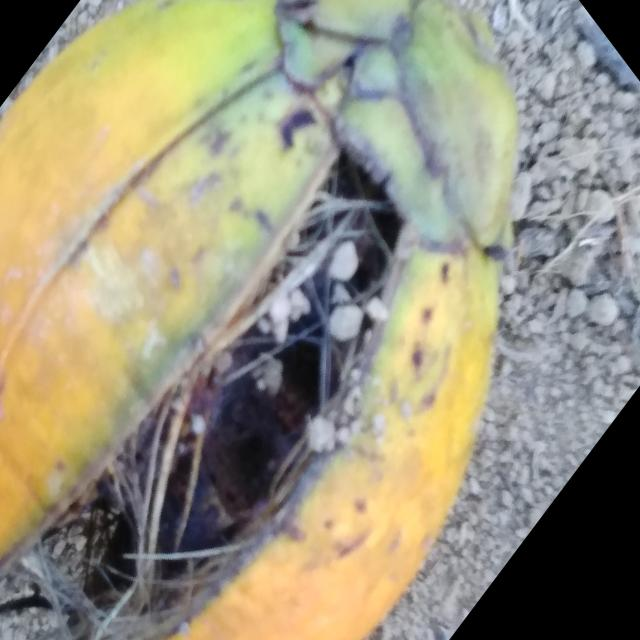damaged: (0, 0, 518, 640)
